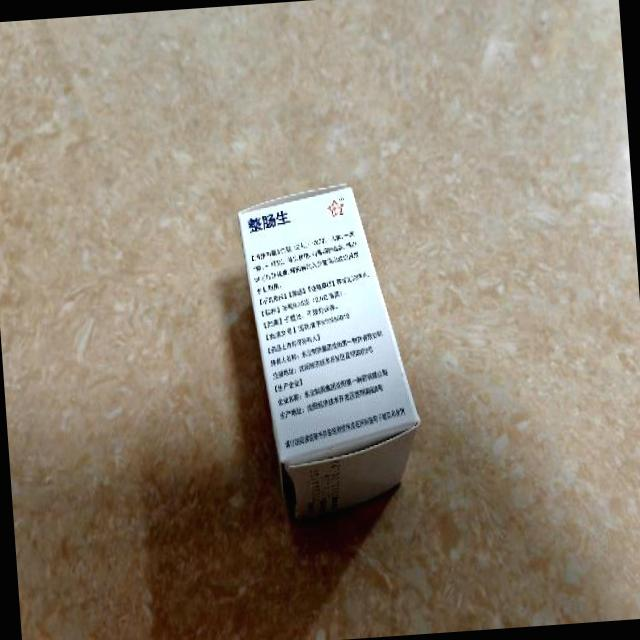box: (236, 179, 427, 524)
